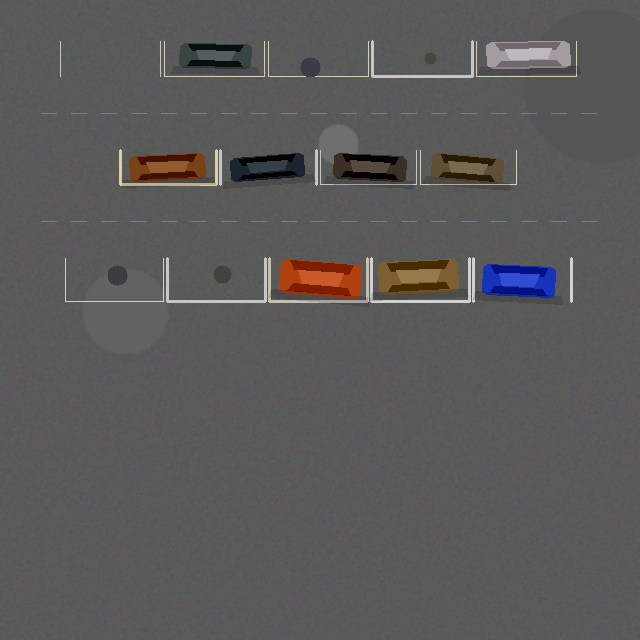space-empty: (65, 258, 163, 301), (167, 258, 265, 301), (60, 41, 160, 76), (268, 41, 368, 76), (372, 41, 472, 76)
space-occupied: (269, 258, 367, 301), (371, 258, 469, 301), (473, 258, 571, 301), (164, 41, 264, 76), (476, 41, 576, 76), (120, 150, 216, 184), (220, 150, 316, 184), (320, 150, 416, 184), (420, 150, 516, 184)
